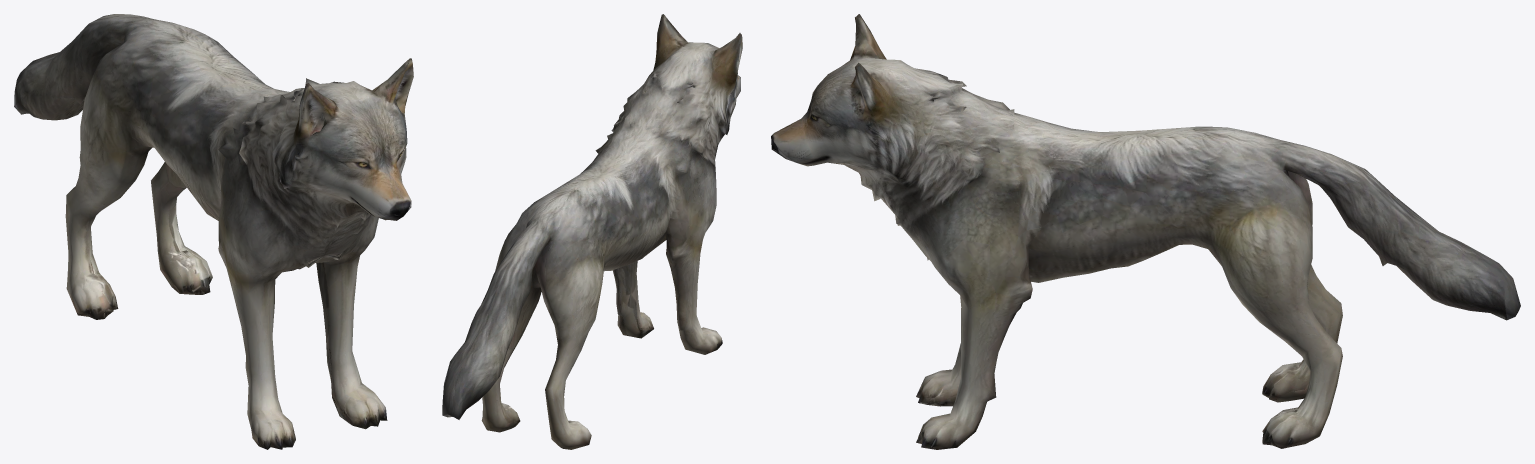
Rendered from gray-wolf.glb.
3 renders of one model, left to right at view 1: azimuth 30°, elevation 25°; view 2: azimuth 150°, elevation 25°; view 3: azimuth 270°, elevation 25°, orthographic. The views are drawn at different scales.
Parts seen in each view (by area): view 1: Object_4; view 2: Object_4; view 3: Object_4.
Boxes of the visible parts, x1,y1,x2,y2 form: Object_4: (14,14,413,449); Object_4: (442,14,742,449); Object_4: (771,14,1520,449).
Size of the model in its own units: 0.403 by 1.13 by 2.
1 material, 1 textured.
